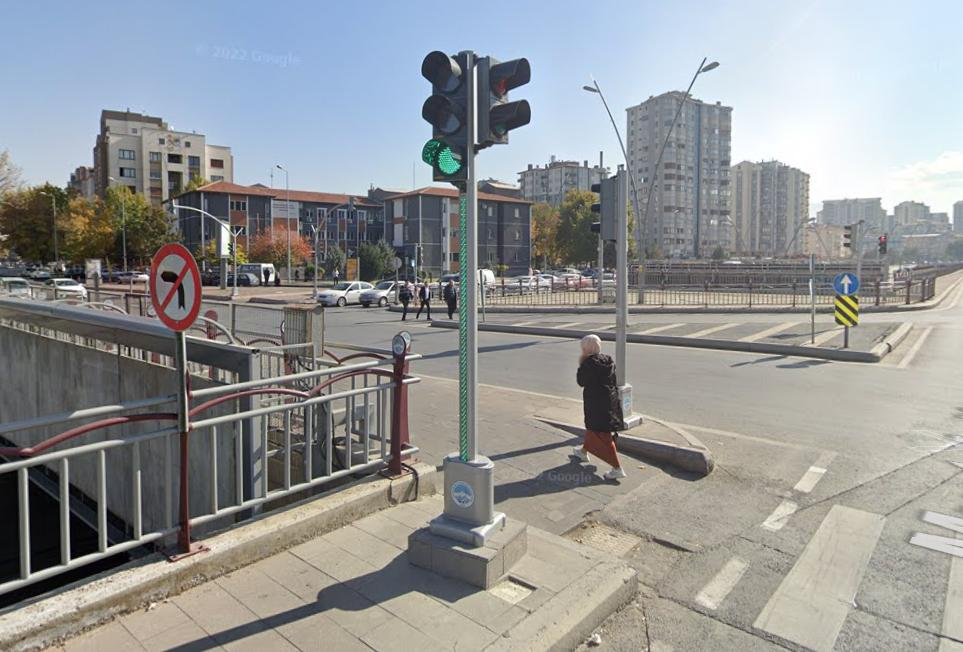forward: (833, 272, 861, 296)
greenlight: (421, 51, 470, 188)
leftturnsareforbidden: (149, 254, 199, 330)
redlight: (879, 233, 887, 256)
